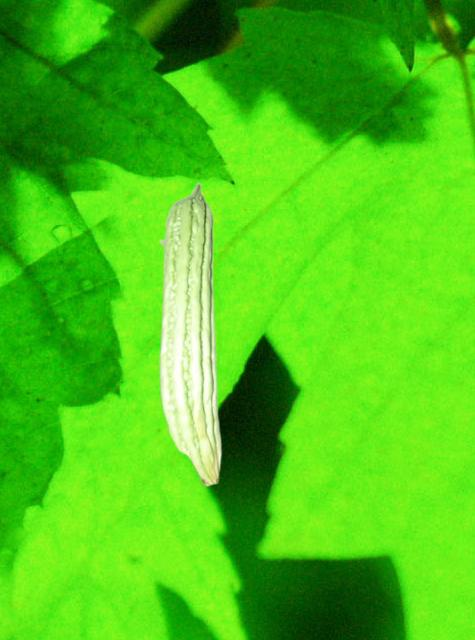ampalaya: (158, 180, 222, 487)
